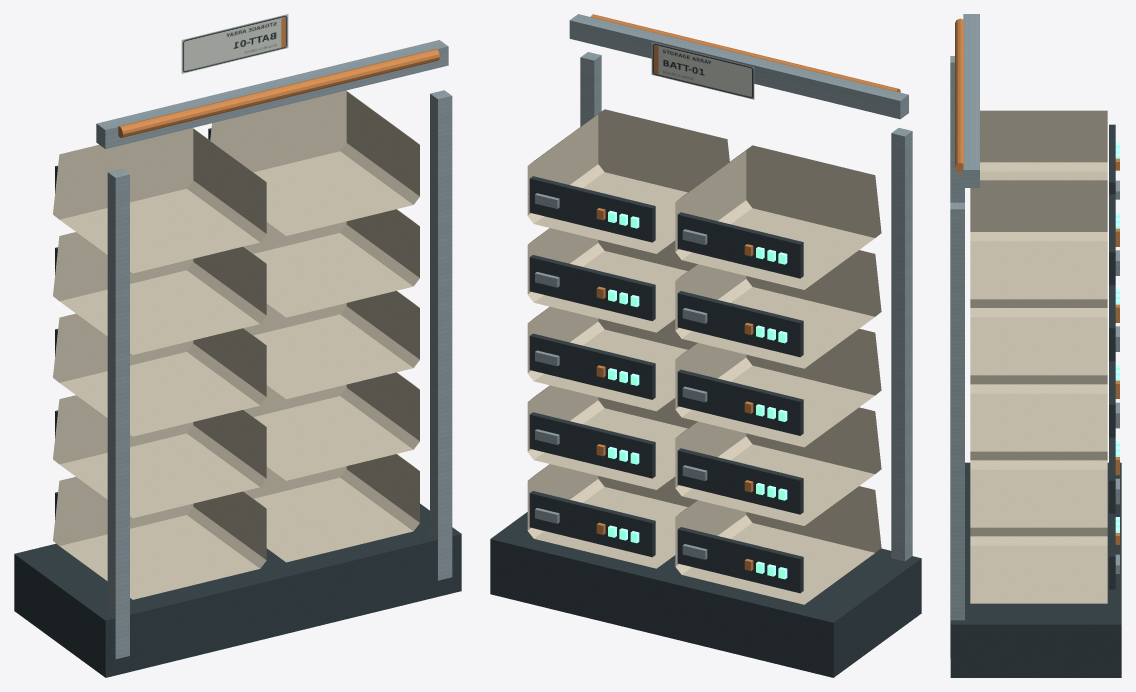
Rendered from battery_bank.glb.
The picture shows the model from 3 angles, left to right: view 1: azimuth 30°, elevation 25°; view 2: azimuth 150°, elevation 25°; view 3: azimuth 270°, elevation 25°; orthographic projection. The views are drawn at different scales.
Visible parts, largest first — view 1: Battery_Modules__cream, static__graphite, Frame__alloy, Bus_Bar__alloy, Bus_Bar__amber, static__label_BATT-01; view 2: Battery_Modules__cream, Battery_Module_Fronts__graphite, static__graphite, Frame__alloy, Bus_Bar__alloy, static__label_BATT-01, Charge_Status__mint, Release_Handles__alloy, Bus_Bar__amber, Charge_Status__amber; view 3: Battery_Modules__cream, static__graphite, Frame__alloy, Battery_Module_Fronts__graphite, Bus_Bar__alloy, Bus_Bar__amber, Release_Handles__alloy, Charge_Status__amber, Charge_Status__mint.
Part boxes in pixels (x1,y1,x2,y2): Battery_Modules__cream: [53, 90, 419, 599]; static__graphite: [14, 503, 461, 677]; Frame__alloy: [107, 90, 452, 659]; Bus_Bar__alloy: [96, 40, 448, 148]; Bus_Bar__amber: [118, 49, 439, 137]; static__label_BATT-01: [181, 14, 288, 73]; Battery_Modules__cream: [527, 109, 881, 604]; Battery_Module_Fronts__graphite: [529, 176, 803, 593]; static__graphite: [490, 512, 921, 677]; Frame__alloy: [580, 52, 912, 561]; Bus_Bar__alloy: [569, 14, 908, 119]; static__label_BATT-01: [651, 42, 754, 99]; Charge_Status__mint: [608, 210, 787, 579]; Release_Handles__alloy: [535, 193, 707, 559]; Bus_Bar__amber: [590, 14, 900, 92]; Charge_Status__amber: [596, 208, 753, 570]; Battery_Modules__cream: [970, 110, 1107, 603]; static__graphite: [950, 462, 1121, 677]; Frame__alloy: [950, 56, 964, 657]; Battery_Module_Fronts__graphite: [1109, 124, 1115, 589]; Bus_Bar__alloy: [963, 14, 979, 187]; Bus_Bar__amber: [955, 18, 963, 172]; Release_Handles__alloy: [1115, 180, 1119, 573]; Charge_Status__amber: [1115, 158, 1119, 544]; Charge_Status__mint: [1115, 142, 1119, 532].
Bounding box in the file's own units: 1.37 × 2.12 × 0.611.
Materials: 8 (8 with a texture image).
